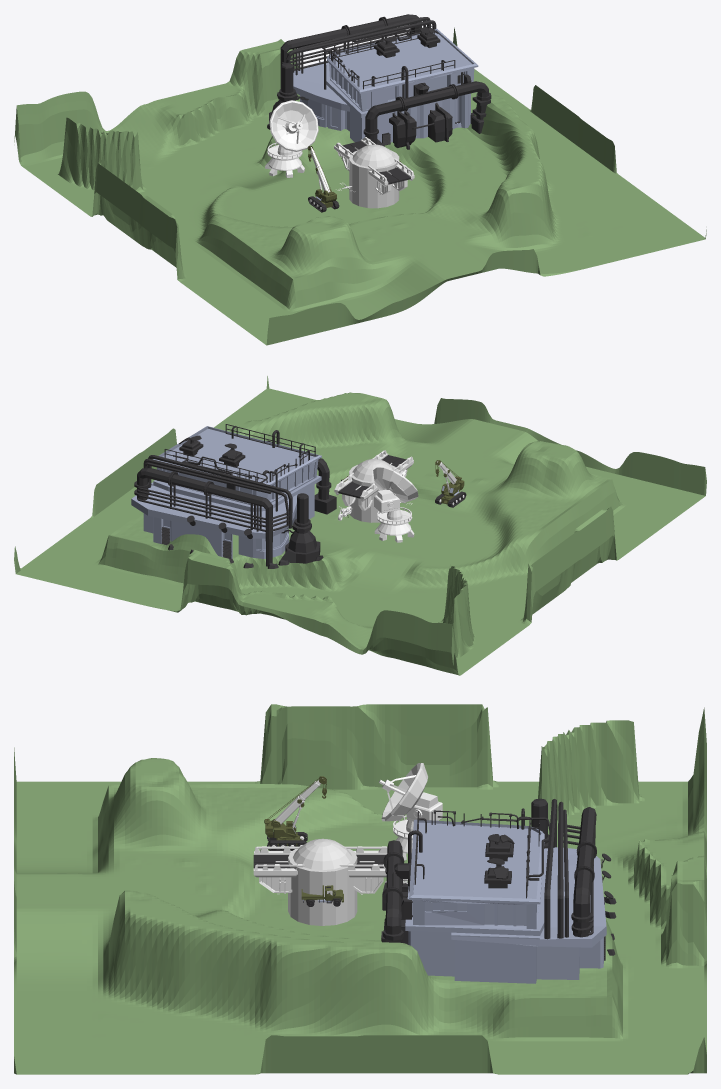
File: tank.glb
The picture shows the model from 3 angles, top to bottom: view 1: azimuth 30°, elevation 25°; view 2: azimuth 150°, elevation 25°; view 3: azimuth 270°, elevation 25°; orthographic projection. The views are drawn at different scales.
Visible parts, largest first — view 1: terrain, building, sattelite_dish, cylinder, bridge, capsule; view 2: terrain, building, sattelite_dish, bridge, cylinder, capsule, crane; view 3: terrain, building, cylinder, bridge, sattelite_dish, capsule, crane.
Part boxes in pixels (x1,y1,x2,y2): terrain: [14, 27, 706, 345]; building: [267, 14, 491, 149]; sattelite_dish: [265, 100, 318, 177]; cylinder: [349, 150, 399, 208]; bridge: [334, 137, 414, 194]; capsule: [352, 144, 395, 167]; terrain: [14, 376, 706, 675]; building: [131, 424, 336, 568]; sattelite_dish: [373, 467, 418, 542]; bridge: [334, 450, 413, 510]; cylinder: [349, 465, 399, 522]; capsule: [352, 459, 395, 481]; crane: [435, 460, 464, 504]; terrain: [14, 704, 706, 1074]; building: [381, 798, 616, 983]; cylinder: [288, 849, 357, 925]; bridge: [253, 846, 387, 894]; sattelite_dish: [379, 763, 442, 860]; capsule: [293, 838, 352, 870]; crane: [264, 776, 326, 846].
Size of the model in its own units: 20 by 4.83 by 20.
